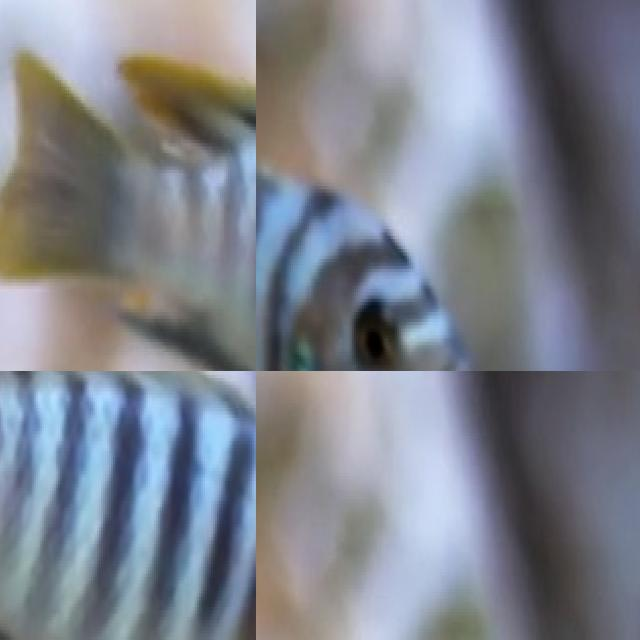fish: (0, 0, 256, 371), (0, 371, 256, 640)
